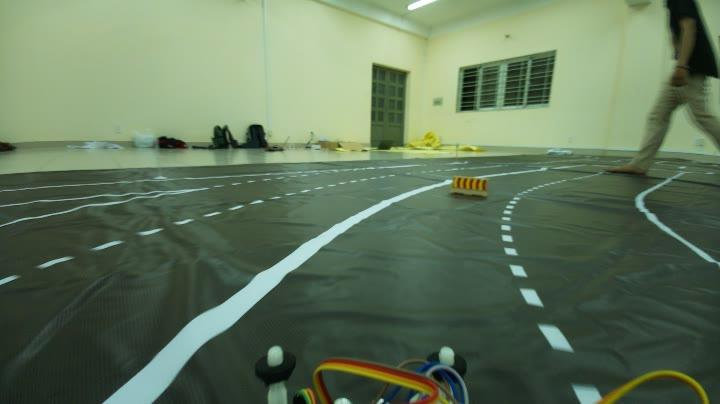roadblock: (448, 168, 496, 206)
